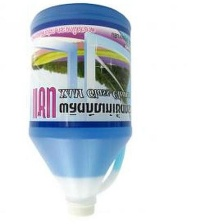cleaning_solution: (24, 0, 133, 221)
